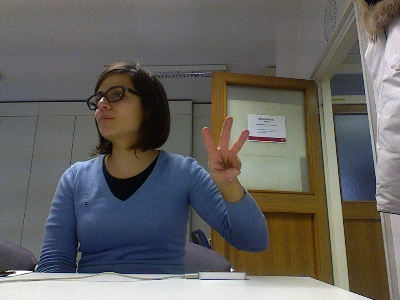三分: (200, 115, 250, 183)
